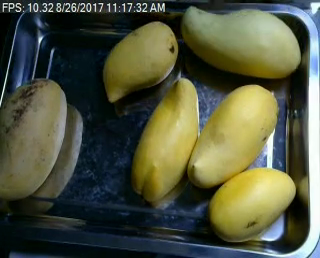Mango: (188, 85, 278, 187), (181, 5, 301, 77), (132, 79, 198, 201), (0, 79, 65, 201), (209, 167, 295, 243), (103, 22, 177, 100)
